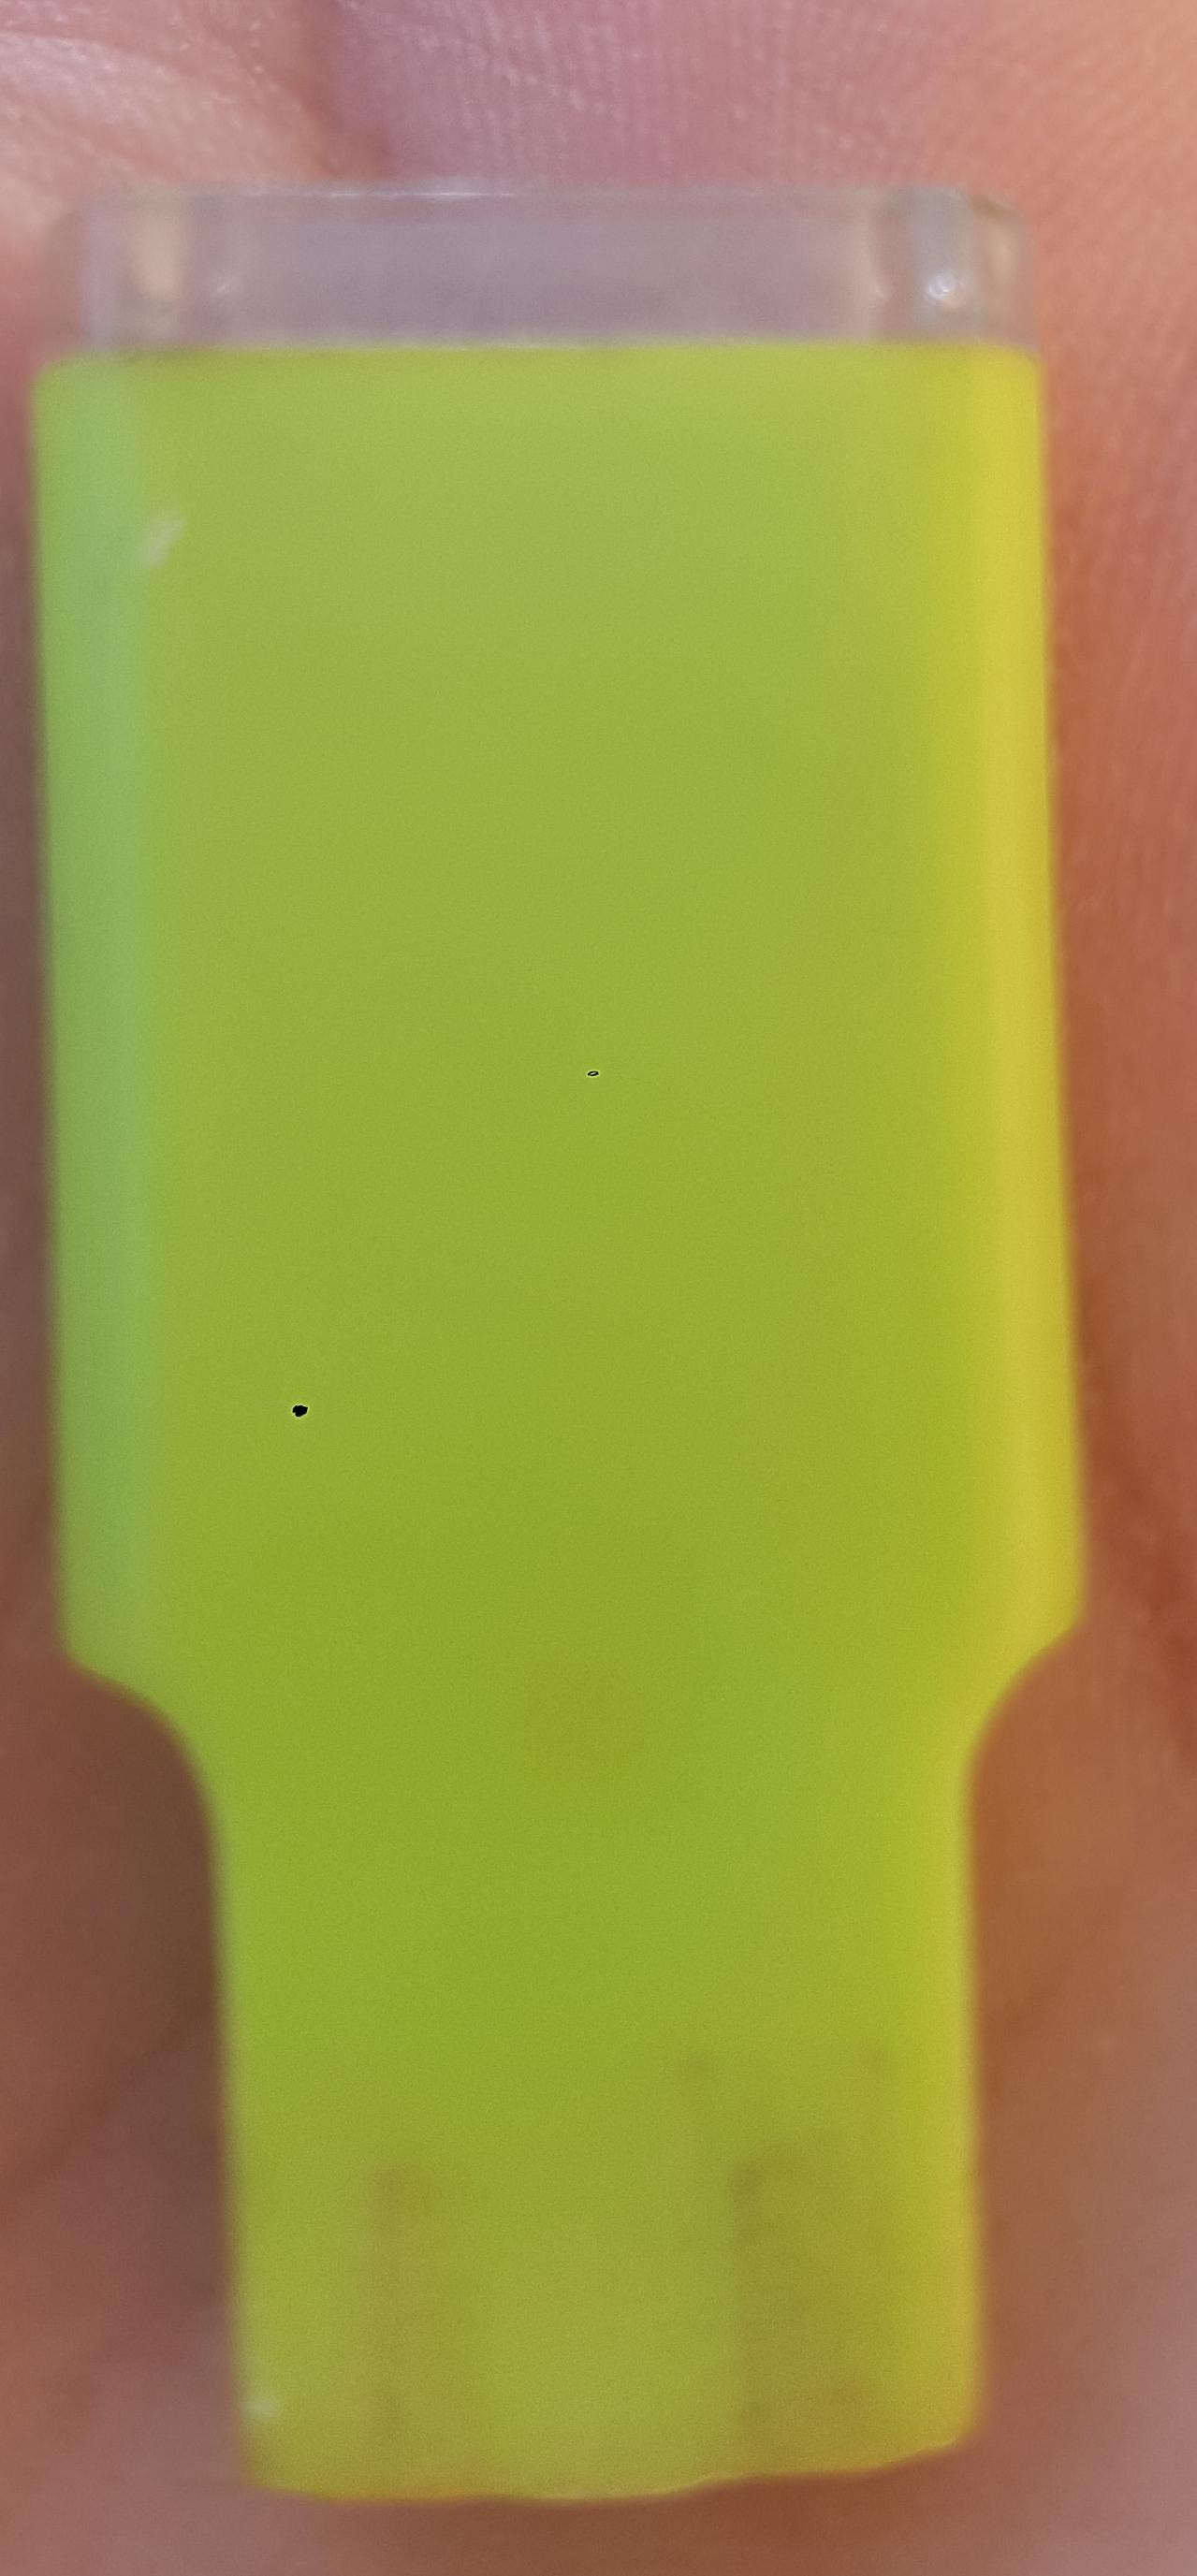electronic: (0, 136, 1126, 2576)
